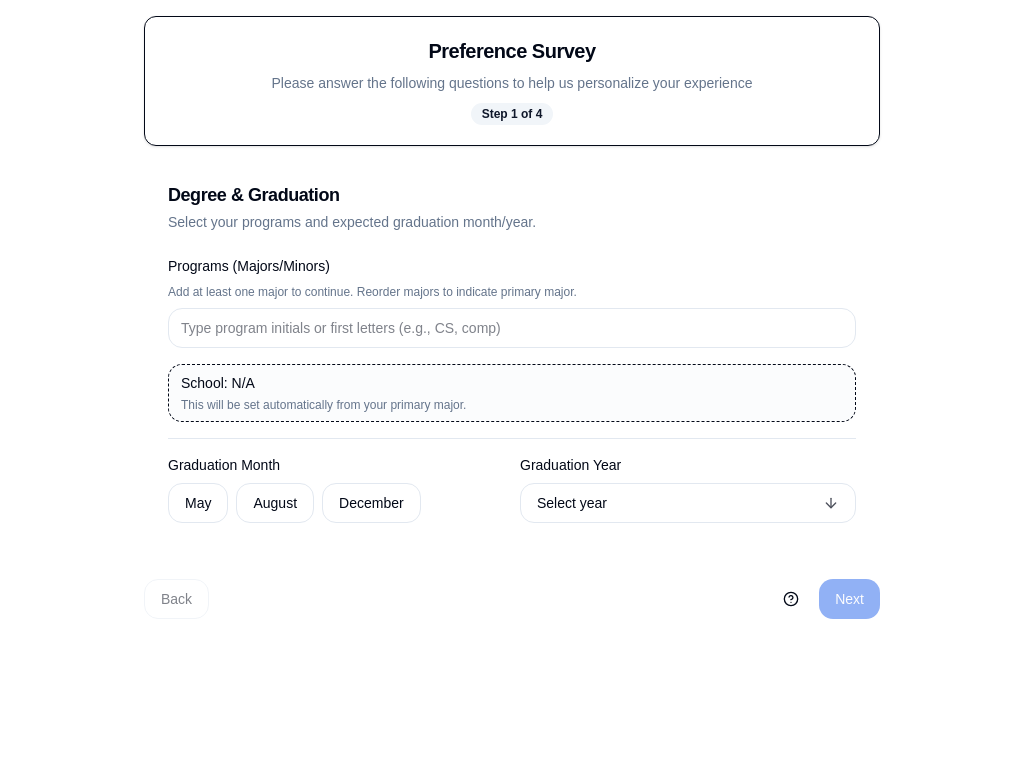
Scenario: Onboard survey › enables Next after selecting major, graduation month, and year
In the field with test id "program-search": (512, 328) [168,308,856,348], type "CS"
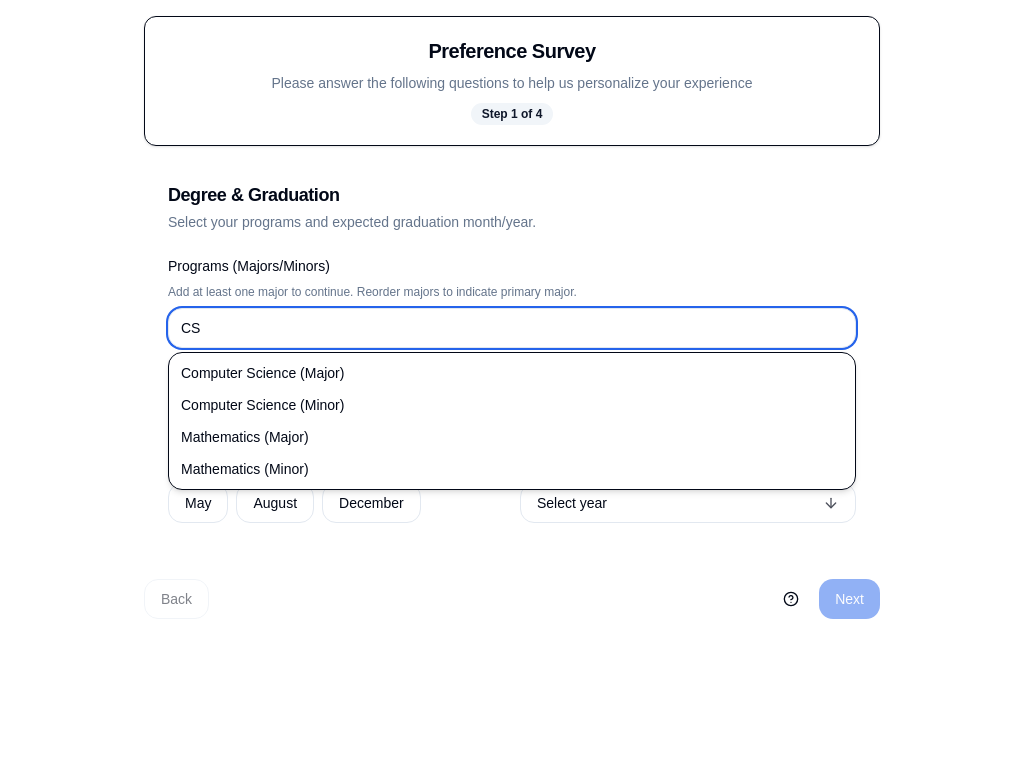
Click the button "Computer Science (Major)": (263, 373) [173,357,851,389]
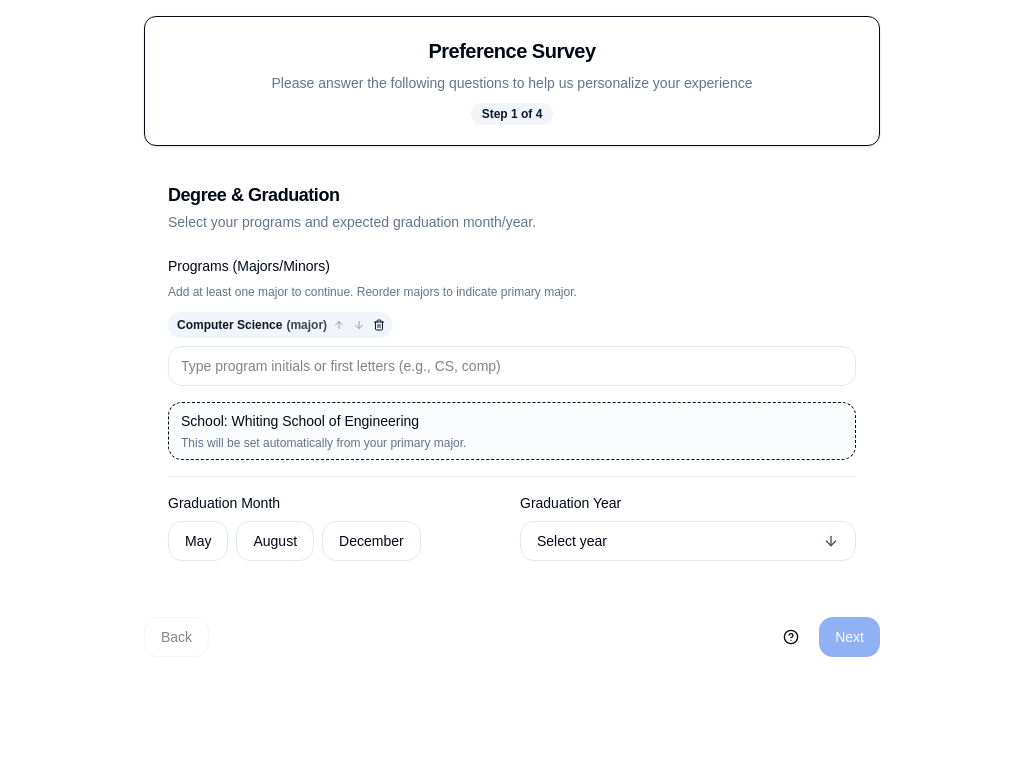
Click the button "May": (198, 541) [168,521,228,561]
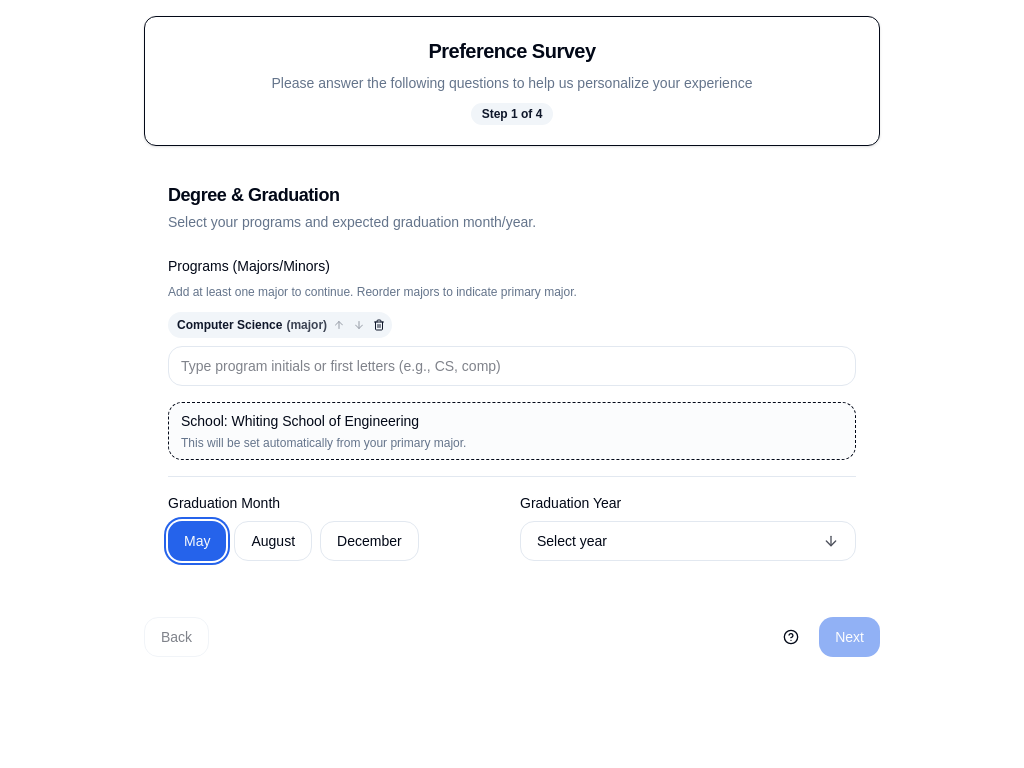
Click the button "Select year": (572, 541) [520,521,856,561]
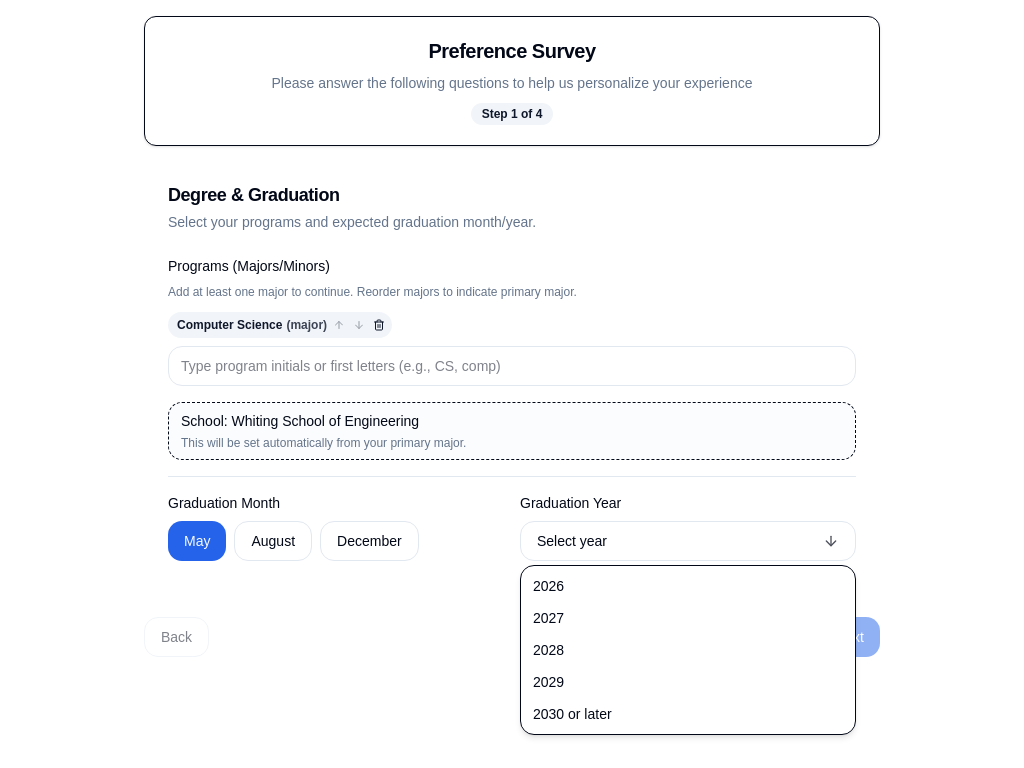
Click the menu item "2026": (549, 586) [533,578,564,594]
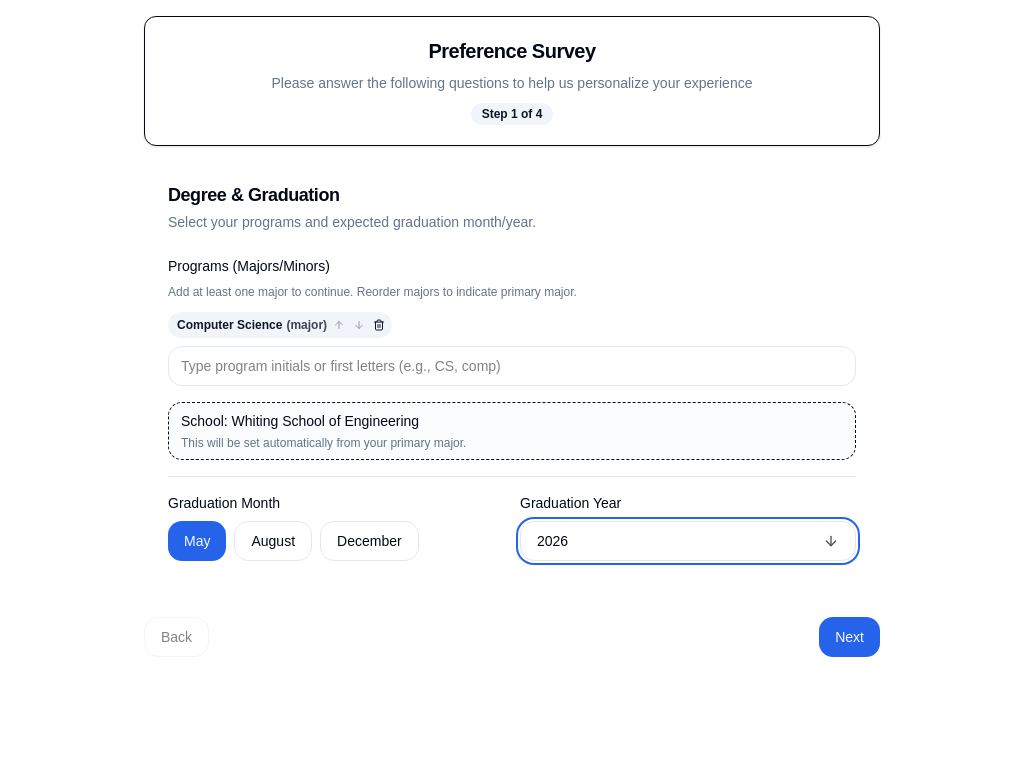
Expected: the button with test id "next-button" is enabled, [819,617,880,657]
